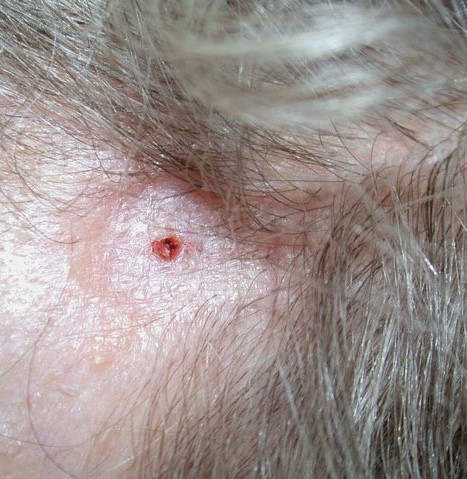Basa Cell Carcinoma: (122, 201, 213, 296)
